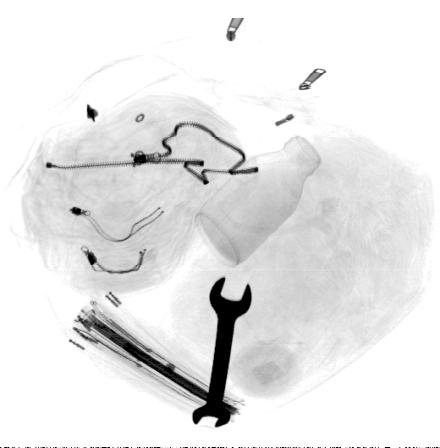Wrench: (191, 276, 254, 429)
